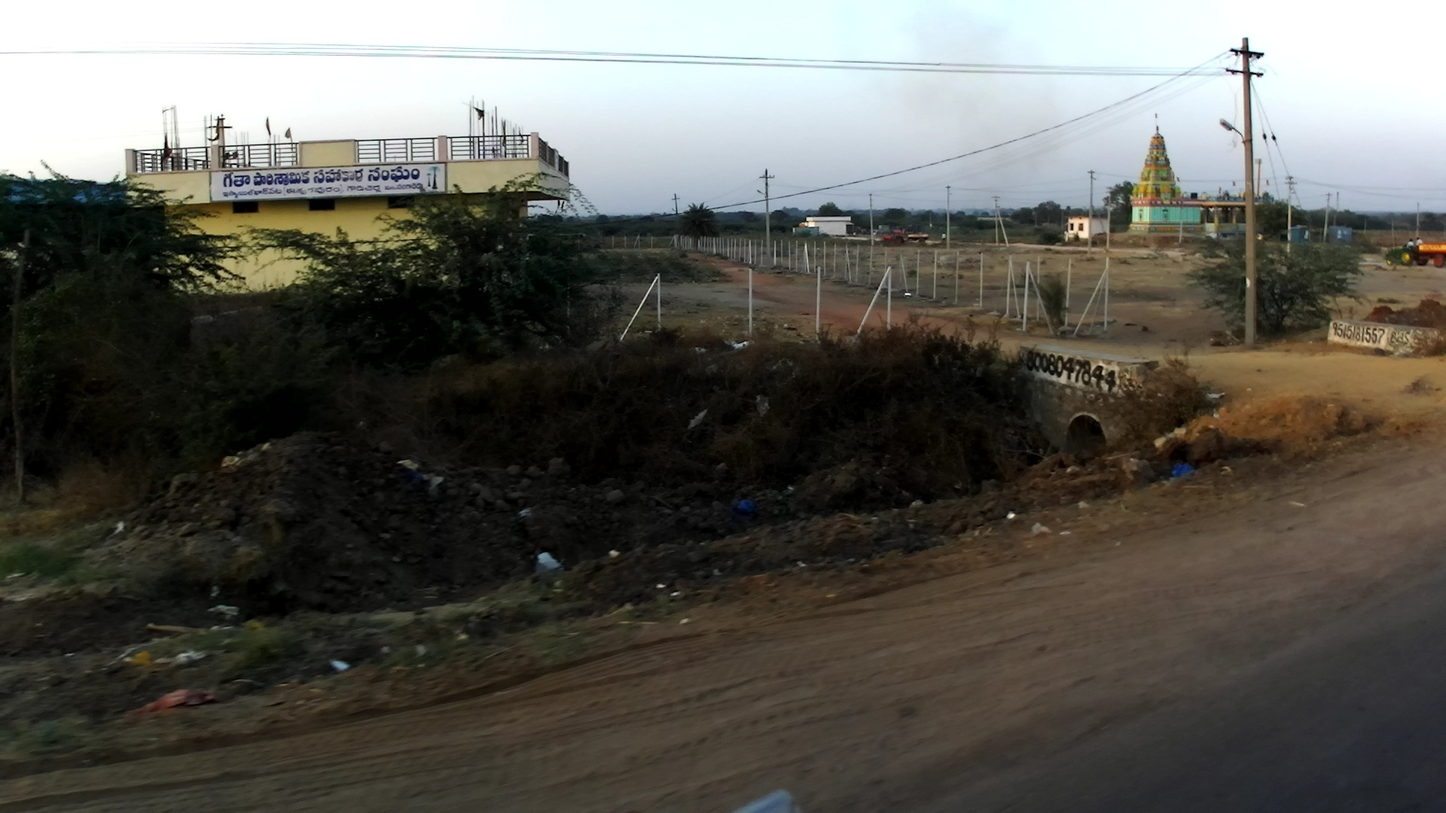person: (941, 232, 947, 243)
rider: (1405, 238, 1414, 248), (1416, 237, 1423, 246)
vehicle fallback: (1387, 237, 1446, 268), (883, 230, 929, 245)
